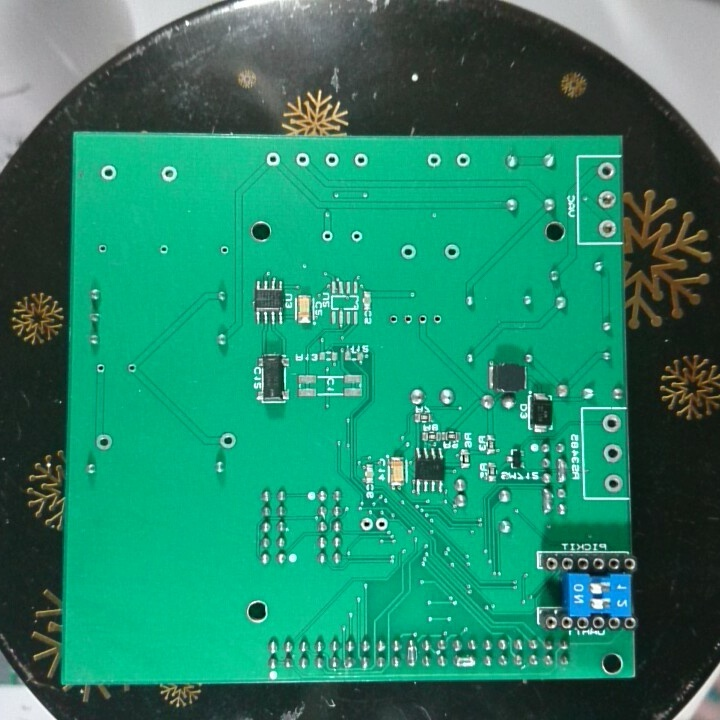F: (599, 412, 623, 435), (602, 443, 624, 468), (594, 159, 617, 182), (602, 473, 626, 495), (595, 187, 617, 211), (596, 218, 618, 240), (92, 430, 114, 452), (217, 430, 238, 452), (158, 163, 180, 183), (98, 163, 119, 183), (399, 241, 419, 261), (424, 151, 444, 170), (454, 151, 473, 170), (352, 150, 371, 169), (442, 242, 462, 260), (294, 150, 312, 169), (263, 150, 282, 168), (358, 515, 374, 534), (374, 515, 391, 532), (323, 152, 340, 169), (93, 360, 110, 377), (319, 228, 335, 244), (414, 312, 430, 328), (348, 228, 365, 243), (96, 241, 110, 258), (217, 242, 231, 259), (156, 241, 171, 256), (430, 312, 445, 327), (125, 361, 139, 376), (400, 312, 414, 327), (387, 312, 400, 328)
P: (539, 484, 555, 515), (404, 638, 419, 669), (554, 456, 569, 486), (453, 652, 478, 668)
